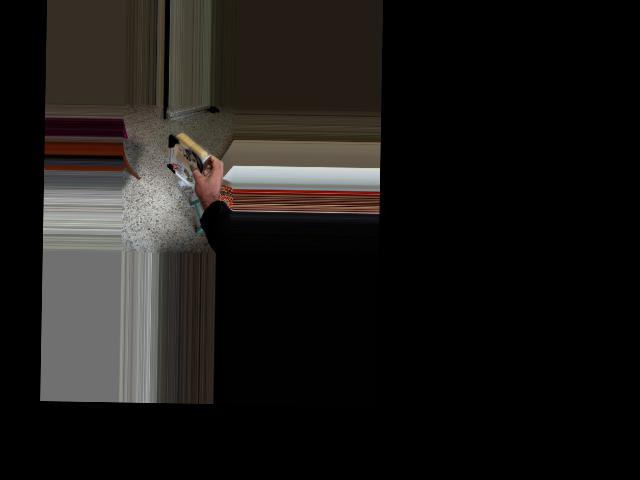cheese: (150, 118, 228, 184)
